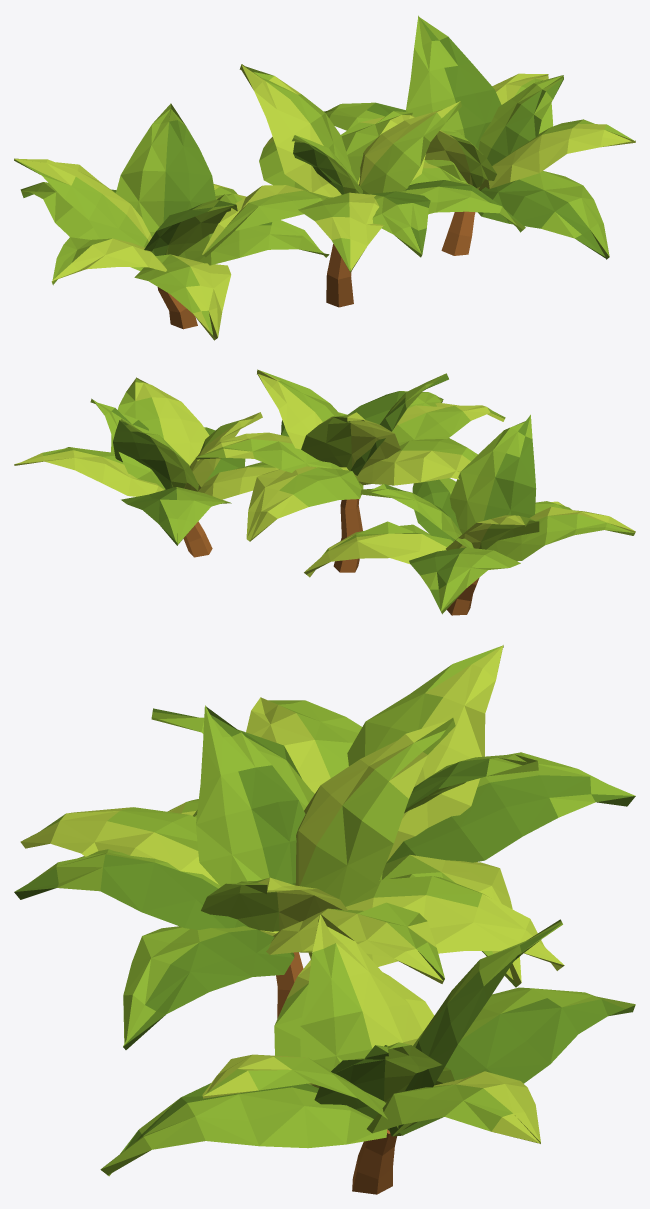
Rendered from nmg_plant_a.glb.
3 renders of one model, top to bottom at view 1: azimuth 30°, elevation 25°; view 2: azimuth 150°, elevation 25°; view 3: azimuth 270°, elevation 25°, orthographic. The views are drawn at different scales.
Parts seen in each view (by area): view 1: nmg_plant_a; view 2: nmg_plant_a; view 3: nmg_plant_a.
Boxes of the visible parts, bbox=[...] form: nmg_plant_a: bbox=[14, 15, 635, 340]; nmg_plant_a: bbox=[14, 369, 635, 615]; nmg_plant_a: bbox=[14, 645, 635, 1194].
Bounding box in the file's own units: 1.48 × 0.5145 × 0.8826.
